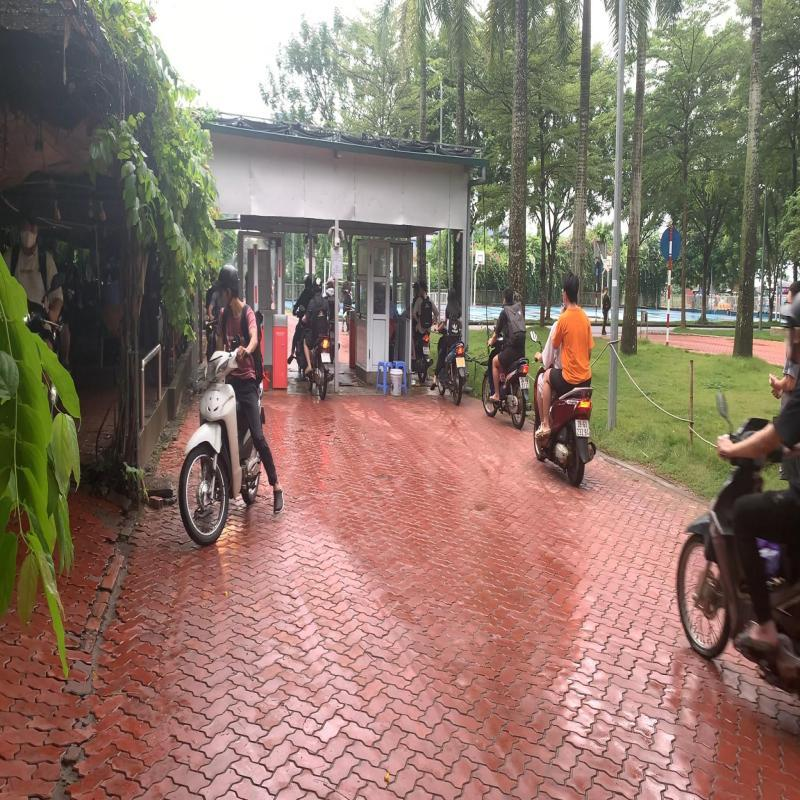nohelmet: (560, 269, 580, 306), (447, 285, 458, 305), (503, 286, 514, 304)
